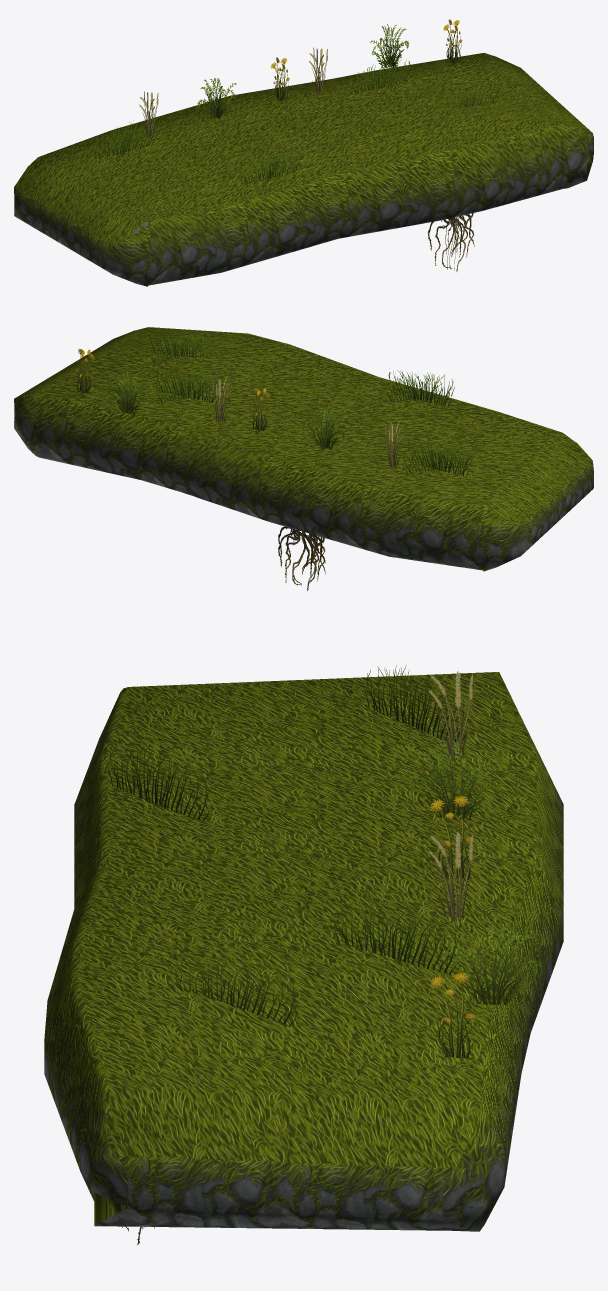
File: platform2_floating_island1.fbx
The picture shows the model from 3 angles, top to bottom: view 1: azimuth 30°, elevation 25°; view 2: azimuth 150°, elevation 25°; view 3: azimuth 270°, elevation 25°; orthographic projection. The views are drawn at different scales.
Visible parts, largest first — view 1: platform2_floating_island1_Layer1, grass; view 2: platform2_floating_island1_Layer1, grass; view 3: platform2_floating_island1_Layer1, grass.
Boxes of the visible parts, left/top/right/bottom form: platform2_floating_island1_Layer1: left=14, top=53, right=593, bottom=286; grass: left=93, top=19, right=498, bottom=271; platform2_floating_island1_Layer1: left=14, top=327, right=593, bottom=571; grass: left=75, top=330, right=473, bottom=590; platform2_floating_island1_Layer1: left=44, top=672, right=563, bottom=1231; grass: left=106, top=665, right=538, bottom=1244.
Size of the model in its own units: 9.73 by 3.5 by 4.3.
